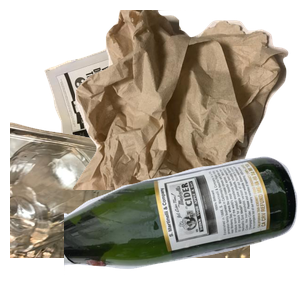glass: (64, 154, 300, 300)
paper: (42, 21, 249, 181)
plastic: (10, 120, 250, 300)
trash: (70, 10, 300, 190)
